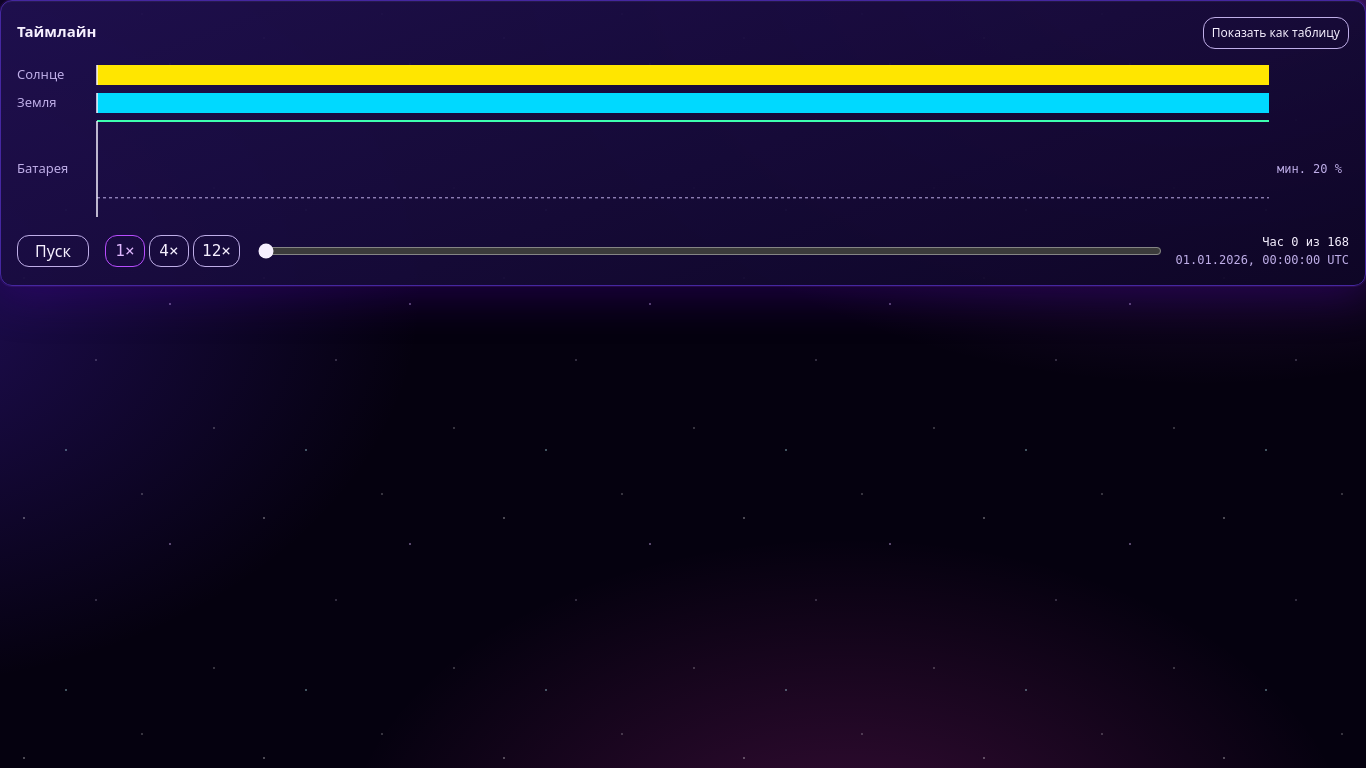
Scenario: Timeline › stops play when the user drags the slider
Click the button "Пуск" at (53, 251), box [17, 235, 89, 267]
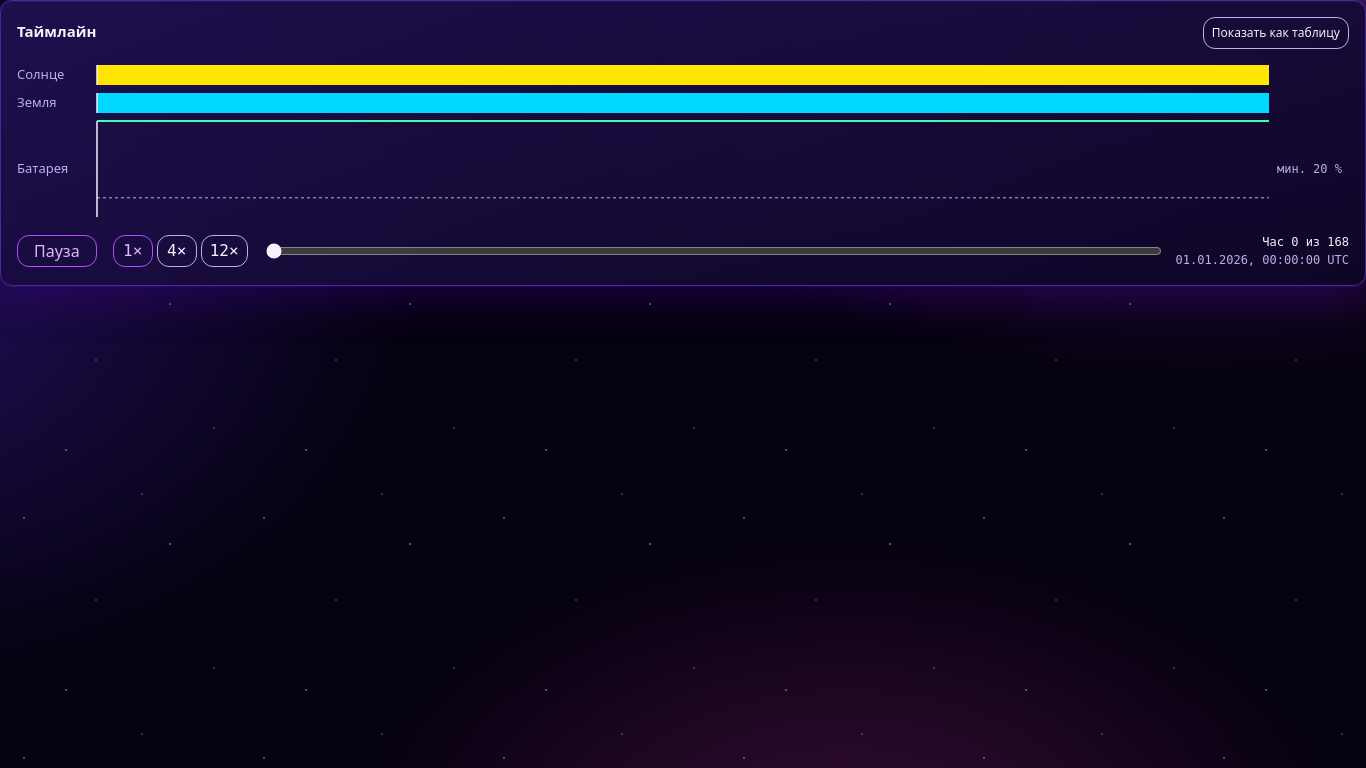
Set the slider named "Час на шкале" to "100" at (797, 251), box [266, 243, 1162, 259]
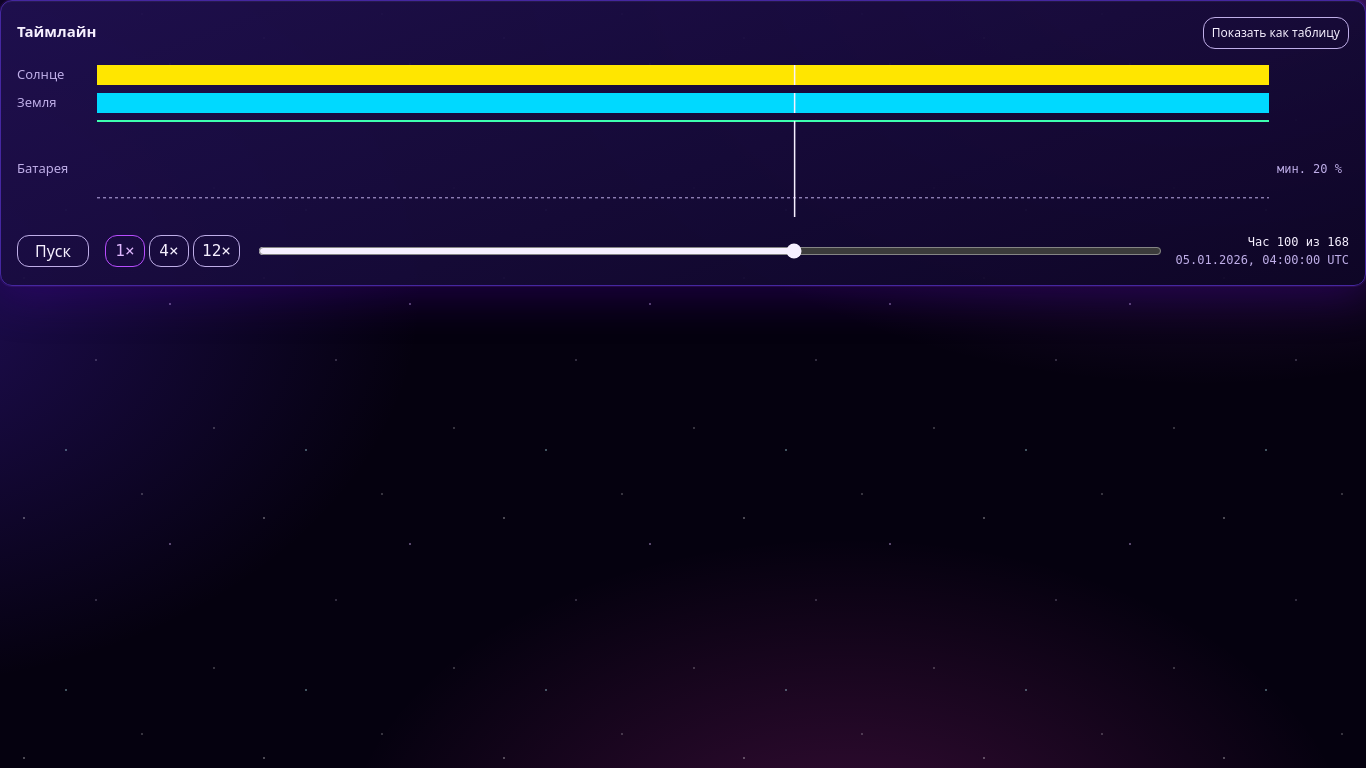
Result: the button "Пуск" is not pressed at [17, 235, 89, 267]
